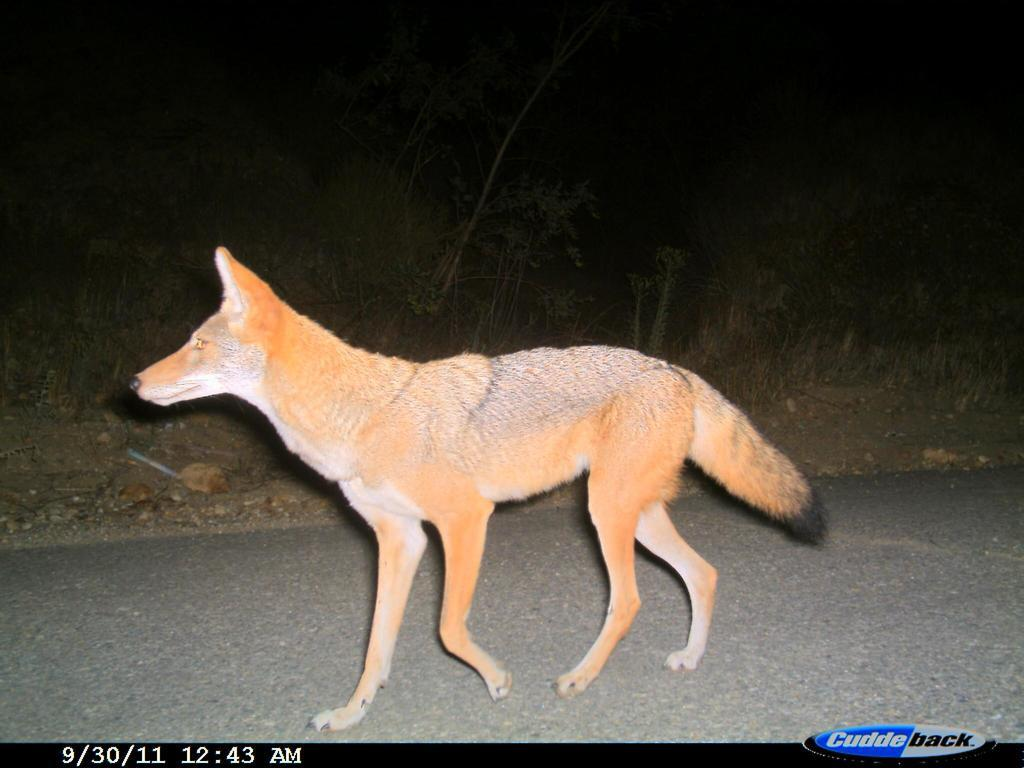coyote: (114, 239, 845, 738)
